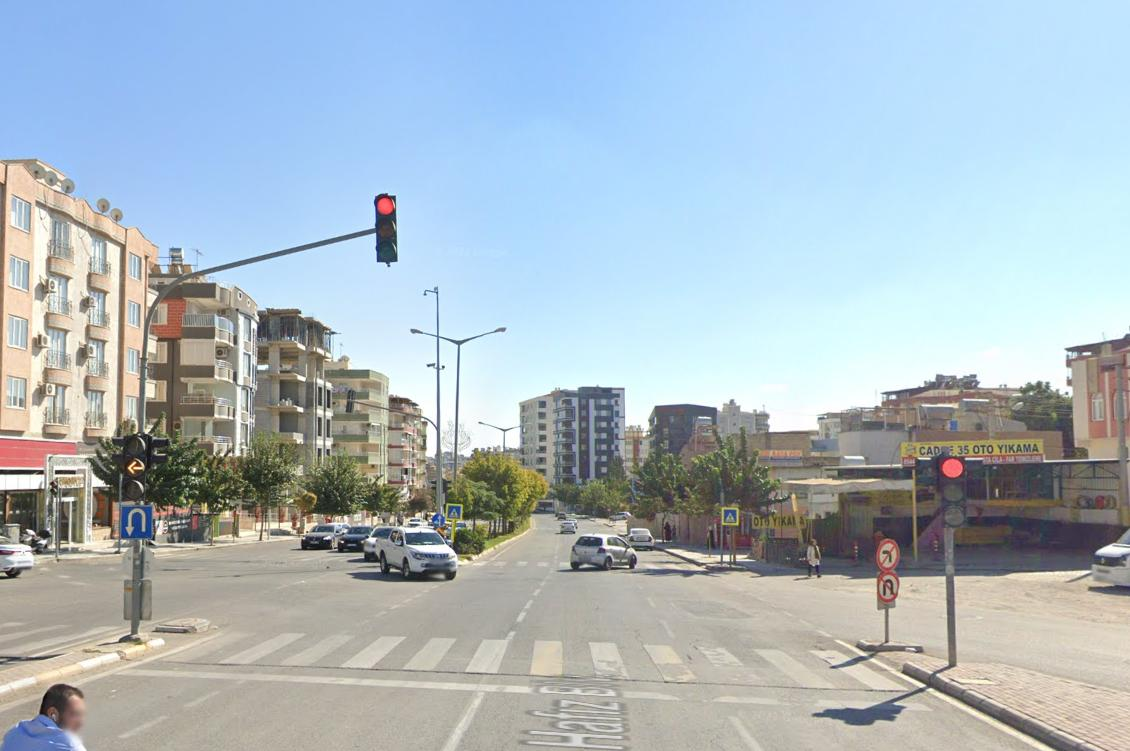leftturnsareforbidden: (875, 538, 899, 570)
redlight: (937, 451, 970, 529), (373, 193, 401, 264)
